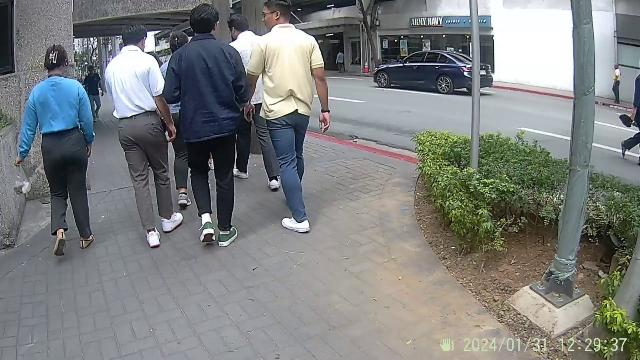utility_post: (512, 2, 602, 332), (445, 0, 497, 228)
